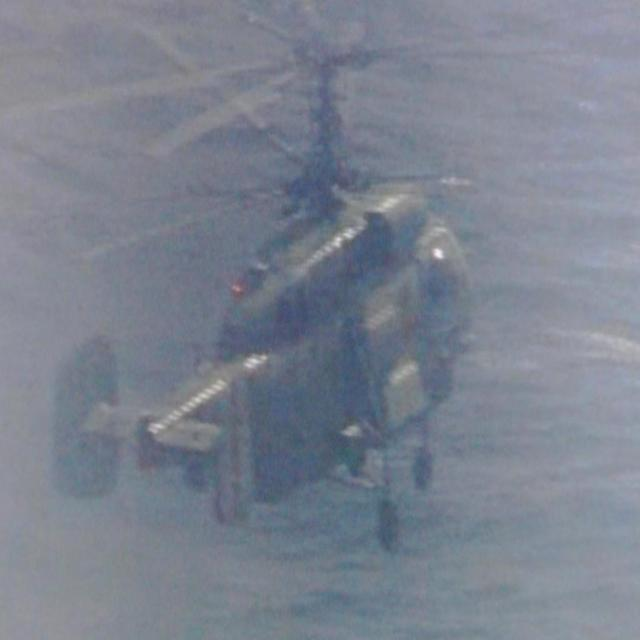MIL_HELO: (49, 25, 486, 535)
